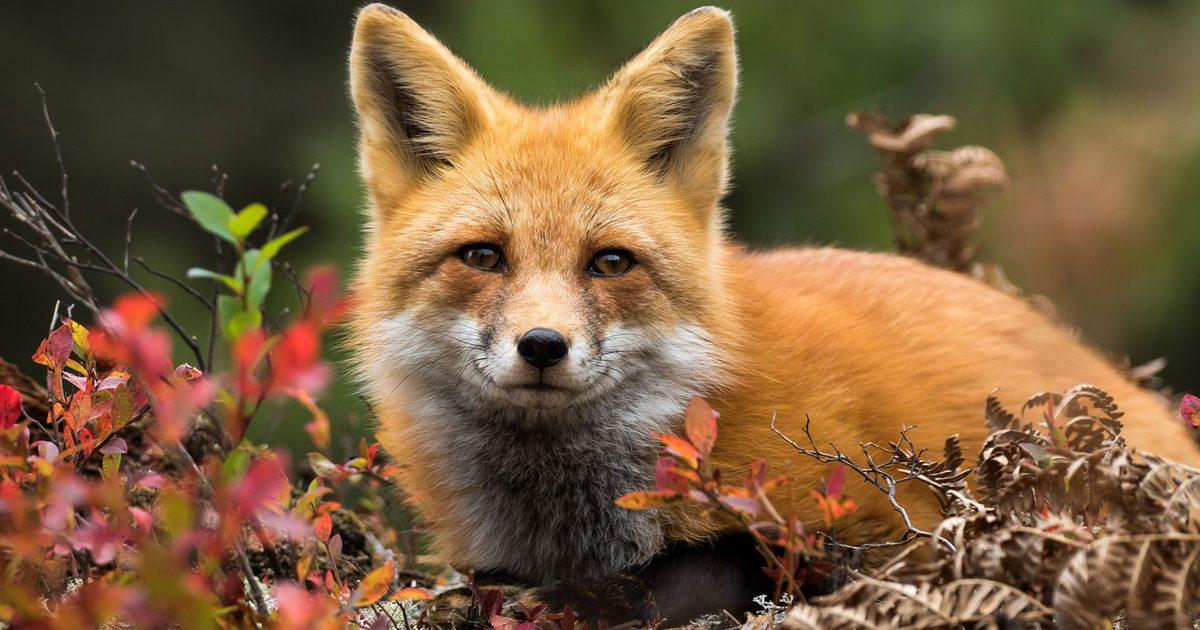fox: (336, 0, 1200, 628)
